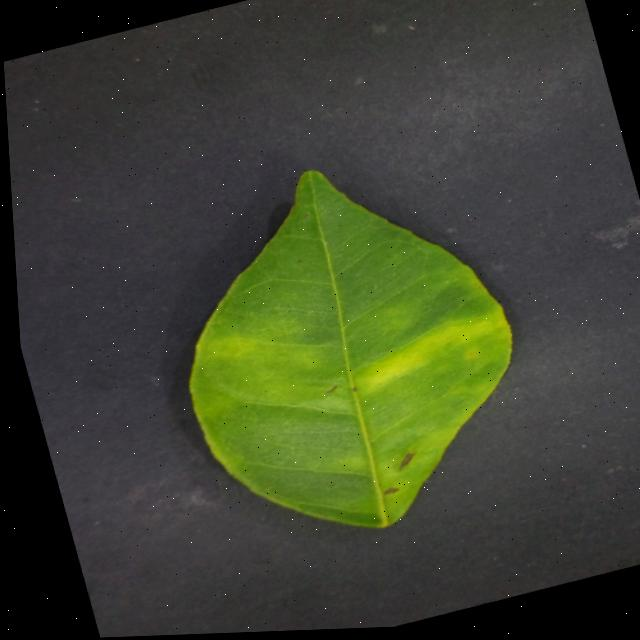greening: (189, 171, 510, 527)
